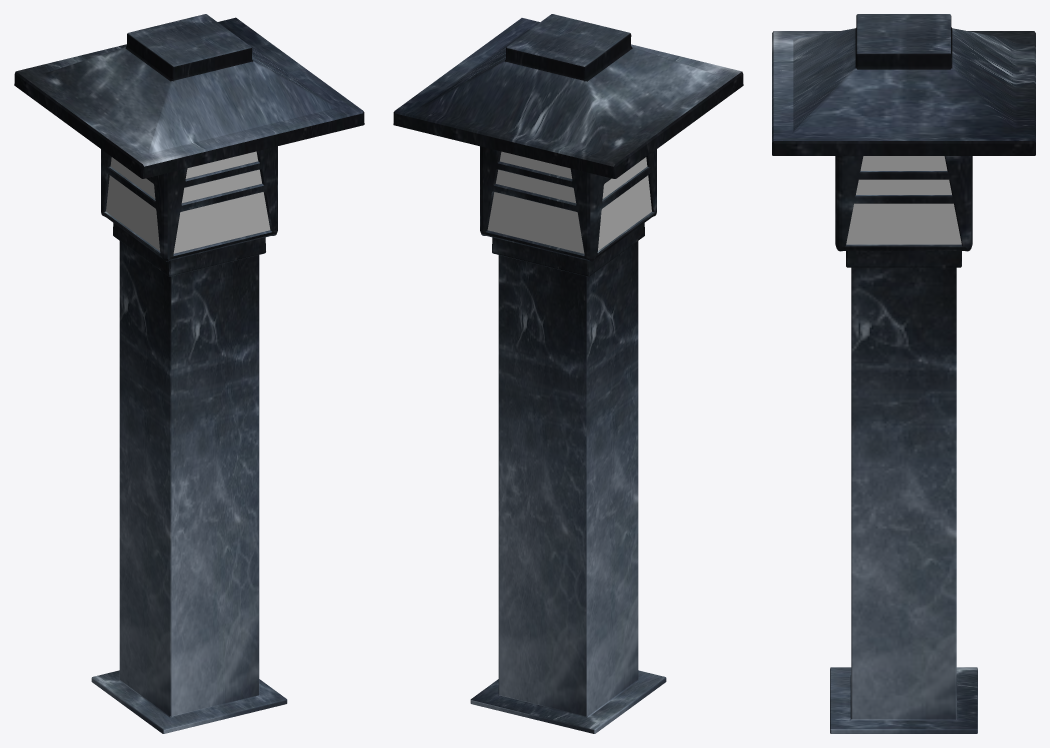
The picture shows the model from 3 angles, left to right: view 1: azimuth 30°, elevation 25°; view 2: azimuth 150°, elevation 25°; view 3: azimuth 270°, elevation 25°; orthographic projection. The views are drawn at different scales.
Parts seen in each view (by area): view 1: Box004; view 2: Box004; view 3: Box004.
Boxes of the visible parts, x1=… form: Box004: x1=14, y1=14, x2=364, y2=733; Box004: x1=393, y1=14, x2=743, y2=733; Box004: x1=772, y1=14, x2=1035, y2=733.
Bounding box in the file's own units: 0.9843 × 2.76 × 0.9843.
